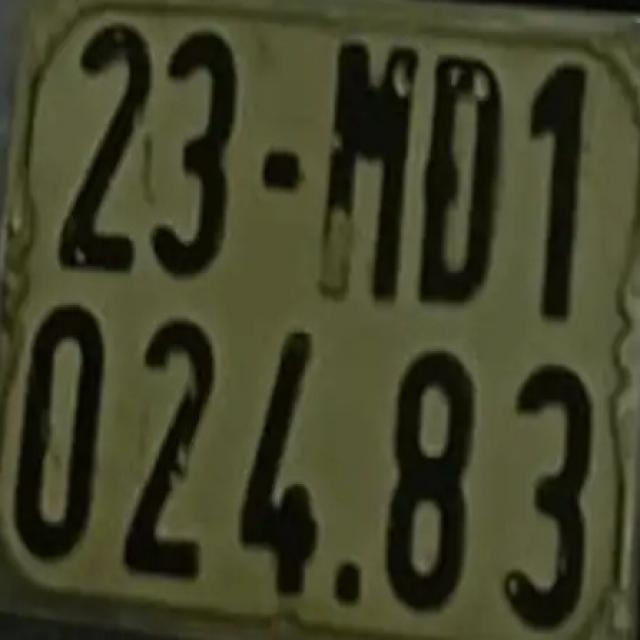0: (8, 296, 108, 564)
1: (521, 55, 599, 324)
2: (119, 308, 216, 587), (54, 16, 149, 278)
3: (504, 357, 594, 628), (149, 23, 240, 282)
4: (236, 323, 325, 601)
8: (379, 341, 477, 614)
D: (419, 48, 504, 308)
M: (312, 32, 418, 305)
